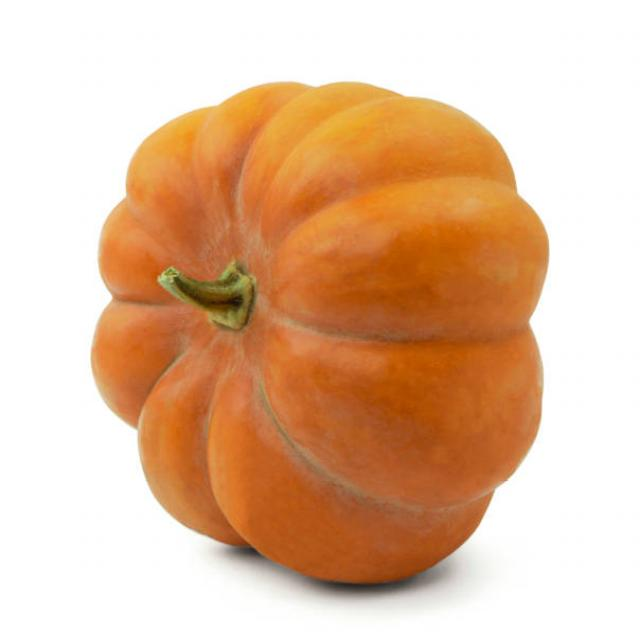Pumpkin: (82, 74, 556, 592)
